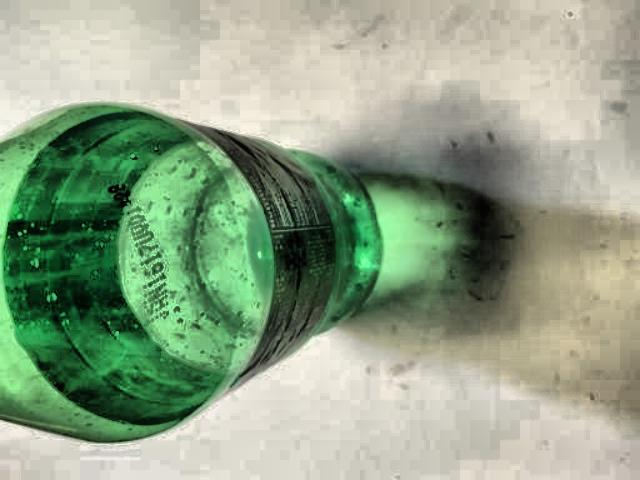Bottles: (0, 72, 391, 453)
